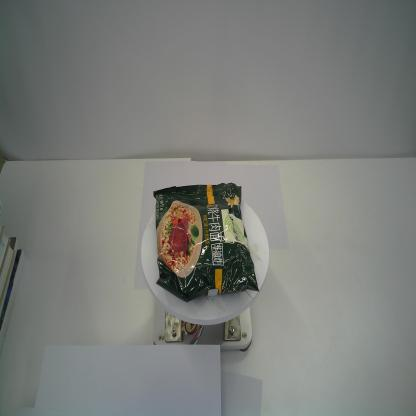Instant Noodles: (153, 182, 260, 303)
